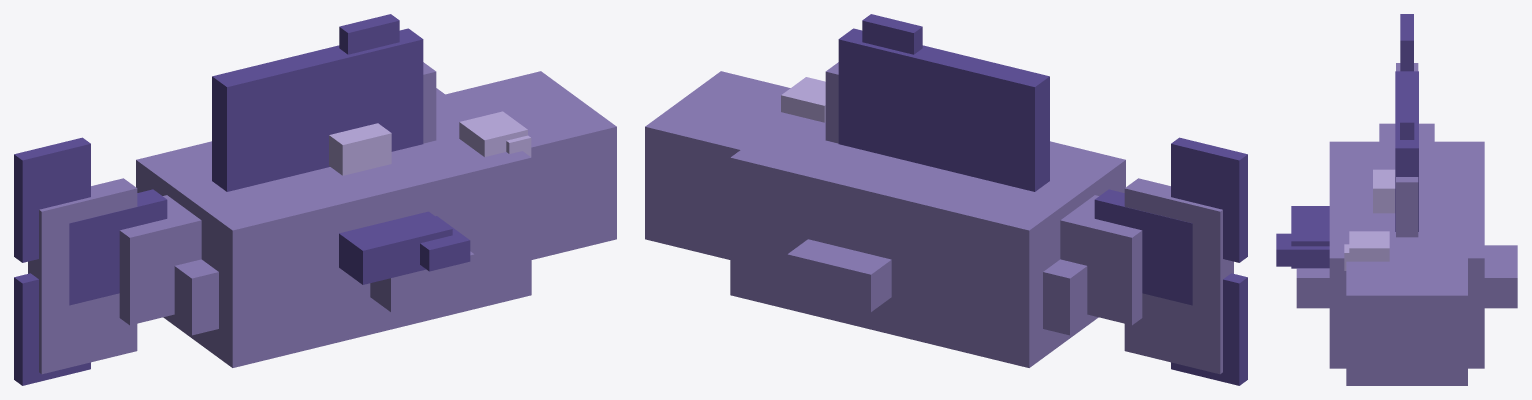
File: fish_prism_gale.glb
3 renders of one model, left to right at view 1: azimuth 30°, elevation 25°; view 2: azimuth 150°, elevation 25°; view 3: azimuth 270°, elevation 25°, orthographic. The views are drawn at different scales.
Visible parts, largest first — view 1: FishArt_body, FishArt_dorsal, FishArt_tail, FishArt_pectoral, FishArt_specialty, FishArt_eye; view 2: FishArt_body, FishArt_dorsal, FishArt_tail, FishArt_eye; view 3: FishArt_body, FishArt_pectoral, FishArt_dorsal, FishArt_eye, FishArt_specialty, FishArt_tail.
Boxes of the visible parts, bbox=[...] form: FishArt_body: bbox=[28, 62, 616, 374]; FishArt_dorsal: bbox=[212, 14, 423, 191]; FishArt_tail: bbox=[14, 137, 167, 385]; FishArt_pectoral: bbox=[339, 211, 470, 284]; FishArt_specialty: bbox=[329, 123, 391, 175]; FishArt_eye: bbox=[459, 111, 531, 156]; FishArt_body: bbox=[645, 62, 1233, 374]; FishArt_dorsal: bbox=[838, 14, 1049, 191]; FishArt_tail: bbox=[1094, 137, 1247, 385]; FishArt_eye: bbox=[781, 77, 825, 122]; FishArt_body: bbox=[1296, 63, 1517, 385]; FishArt_pectoral: bbox=[1276, 206, 1329, 268]; FishArt_dorsal: bbox=[1395, 71, 1418, 231]; FishArt_eye: bbox=[1344, 231, 1389, 270]; FishArt_specialty: bbox=[1373, 169, 1395, 213]; FishArt_tail: bbox=[1400, 14, 1413, 71].
Size of the model in its own units: 0.3091 by 0.1442 by 0.1439.
